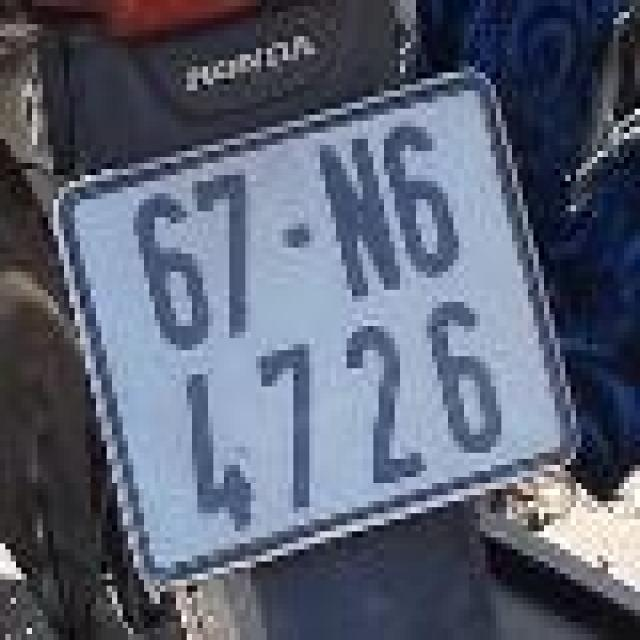2: (328, 312, 447, 502)
4: (149, 359, 274, 552)
6: (110, 175, 226, 371), (412, 287, 520, 471), (370, 110, 475, 296)
7: (178, 160, 288, 348), (244, 330, 342, 524)
N: (303, 126, 413, 322)
